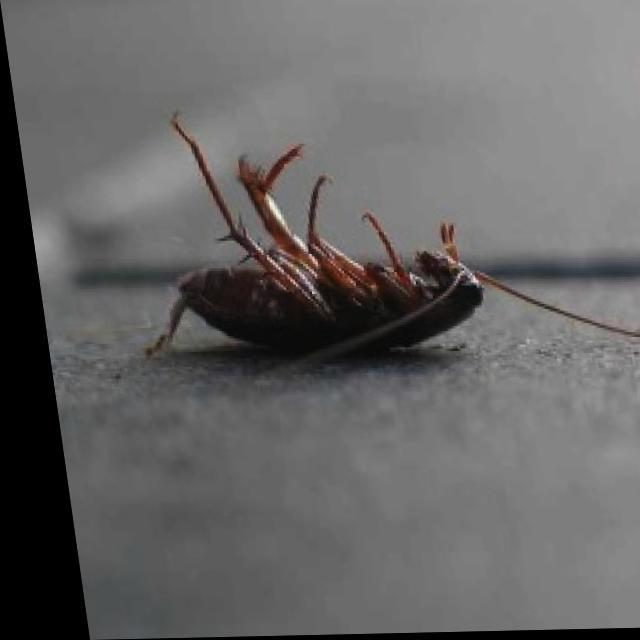cockroach: (140, 108, 636, 369)
